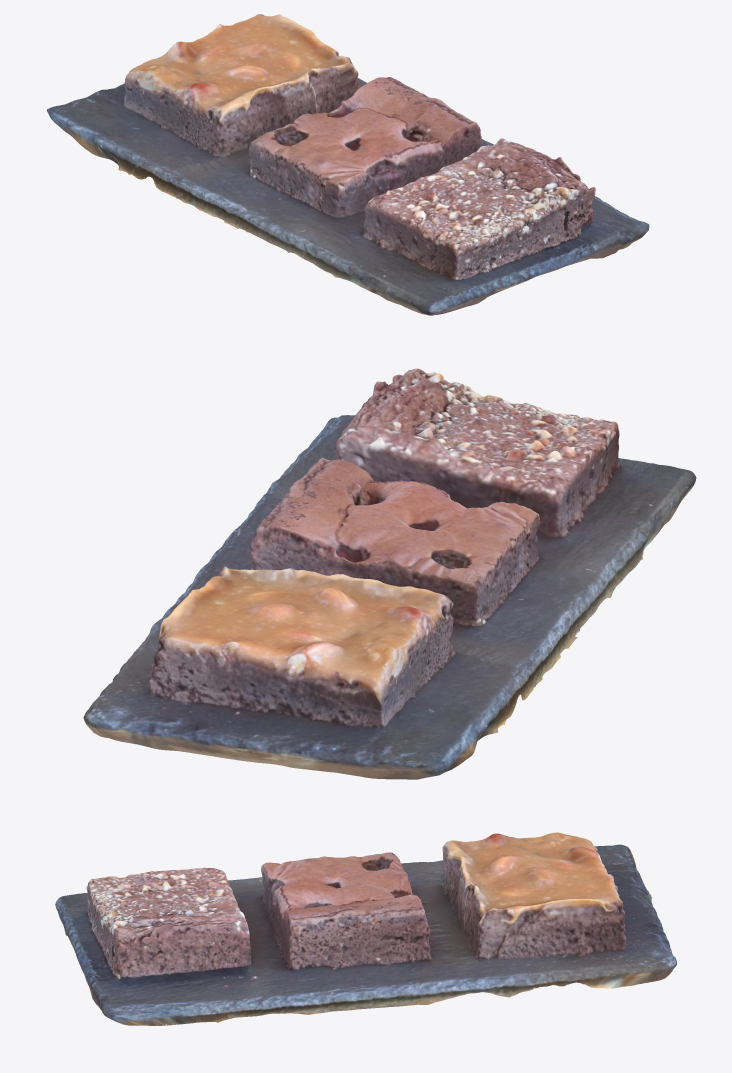
File: keik.takhtei.final.glb
The picture shows the model from 3 angles, top to bottom: view 1: azimuth 30°, elevation 25°; view 2: azimuth 150°, elevation 25°; view 3: azimuth 270°, elevation 25°; orthographic projection. The views are drawn at different scales.
Visible parts, largest first — view 1: object 1; view 2: object 1; view 3: object 1.
Part boxes in pixels (x1,y1,x2,y2): object 1: (47,14,649,315); object 1: (83,368,696,779); object 1: (55,832,676,1025).
Size of the model in its own units: 0.2189 by 0.0405 by 0.3267.
Materials: 2 (1 with a texture image).
